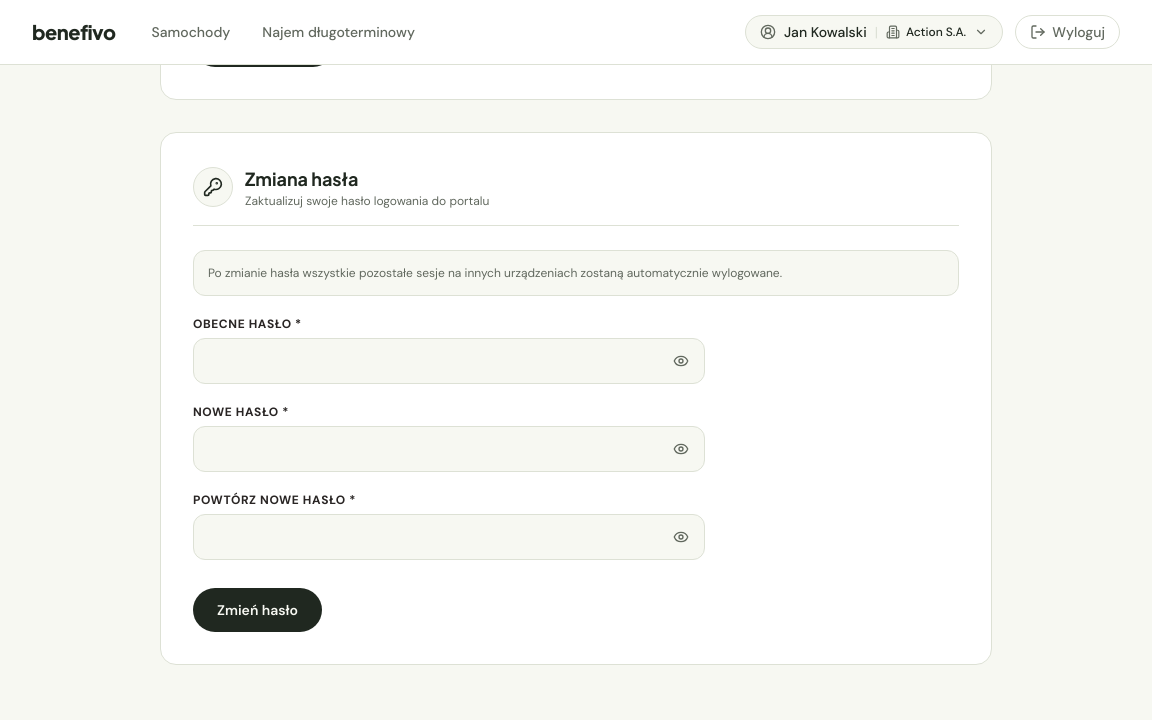
AccountPage Component › successfully changes password and displays logout notification message
(page scrolled)
Check: the heading "Zmiana hasła" is shown, box [245, 166, 358, 190]
Type "OldPassword123!" into the password field labelled "Obecne hasło *". click: (449, 360)
box: [193, 338, 705, 384]
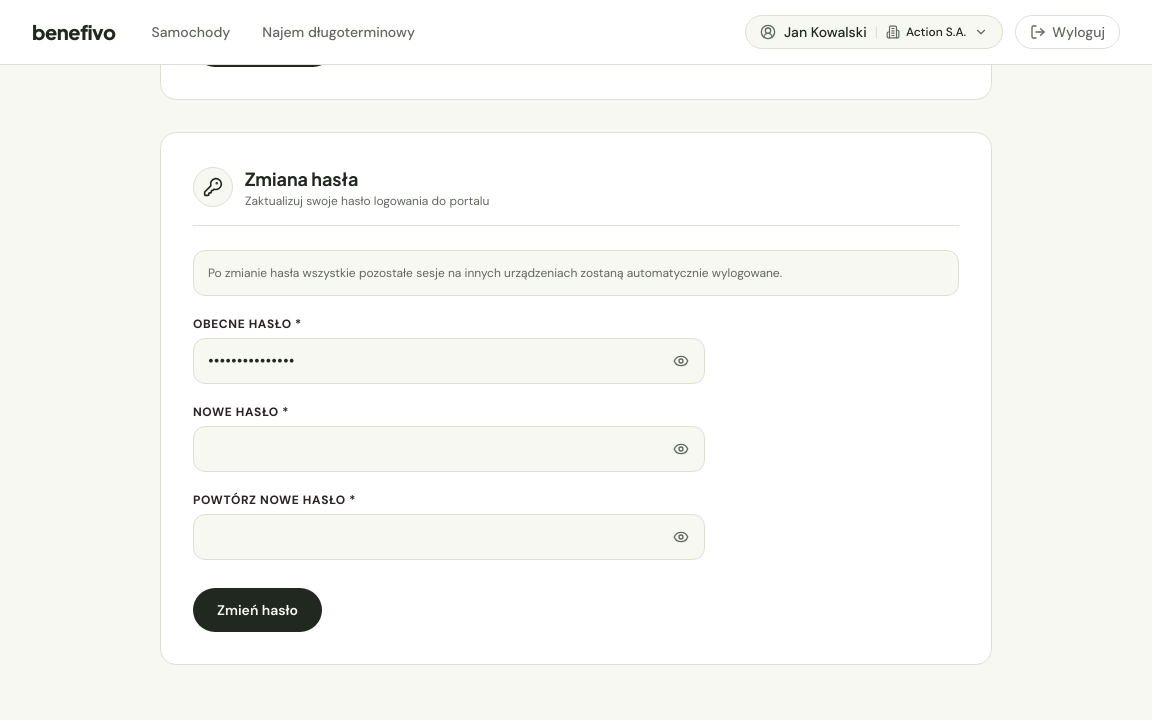
Type "NewSuperPassword123!" into the password field labelled "Nowe hasło *". click: (449, 448)
box: [193, 426, 705, 472]
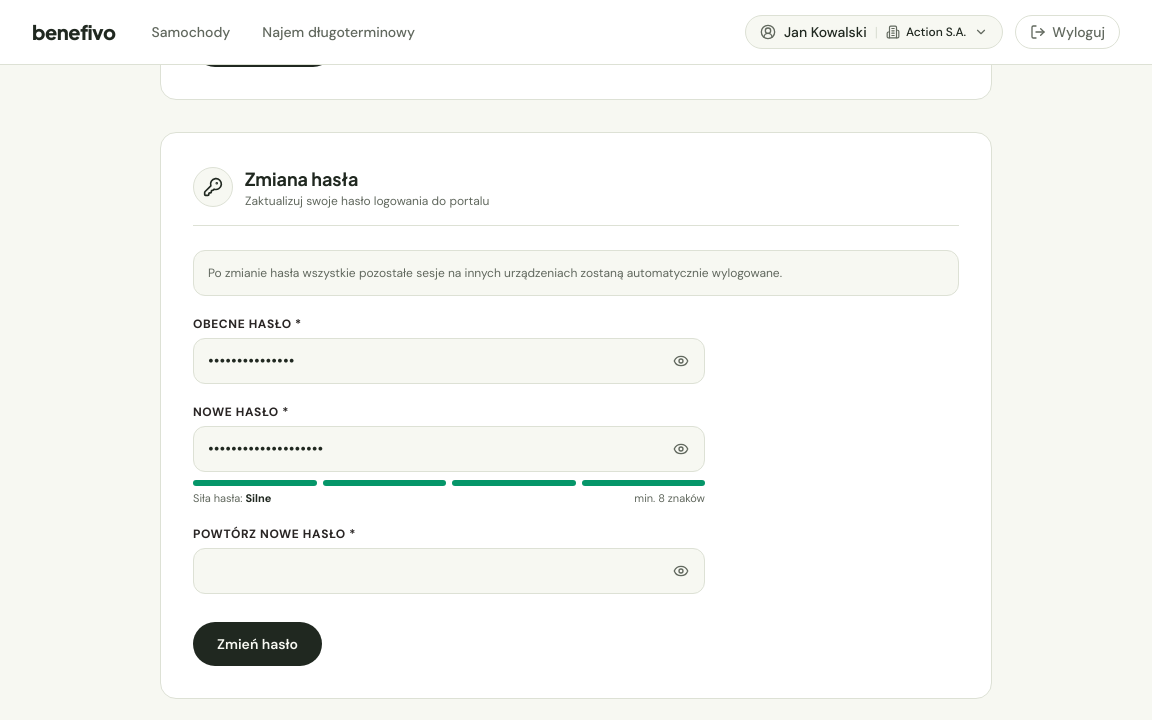
Type "NewSuperPassword123!" into the password field labelled "Powtórz nowe hasło *". click: (449, 571)
box: [193, 548, 705, 594]
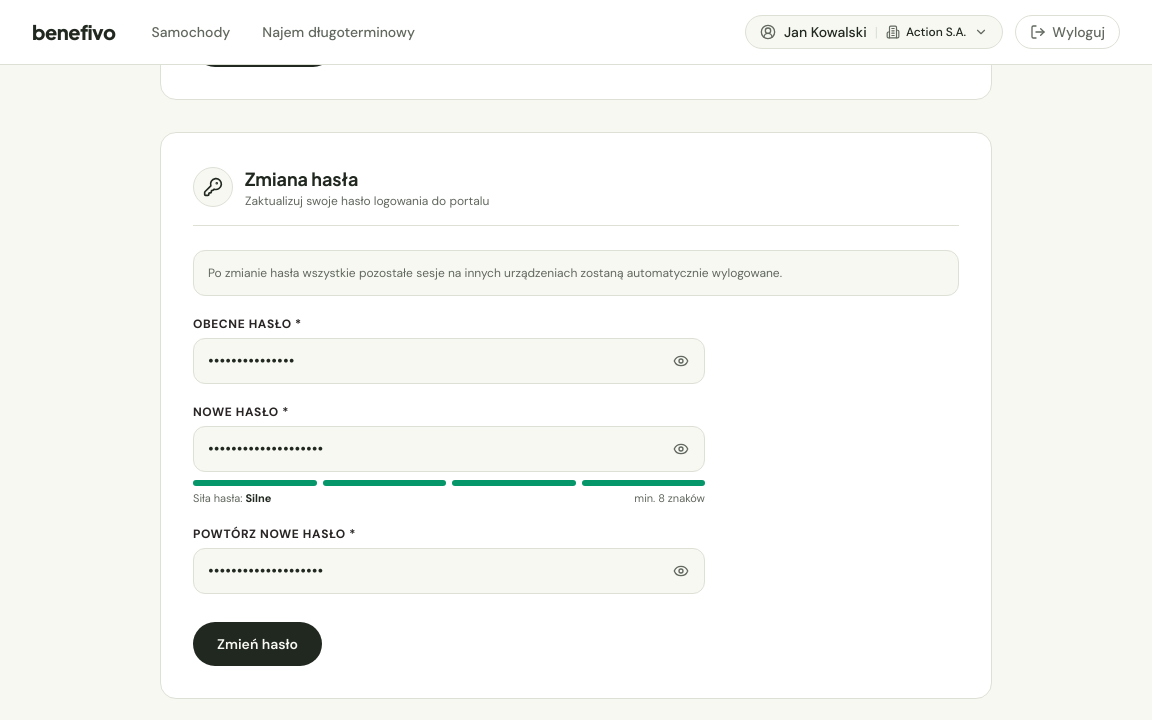
Click the button "Zmień hasło". click: (258, 644)
box: [193, 622, 322, 666]
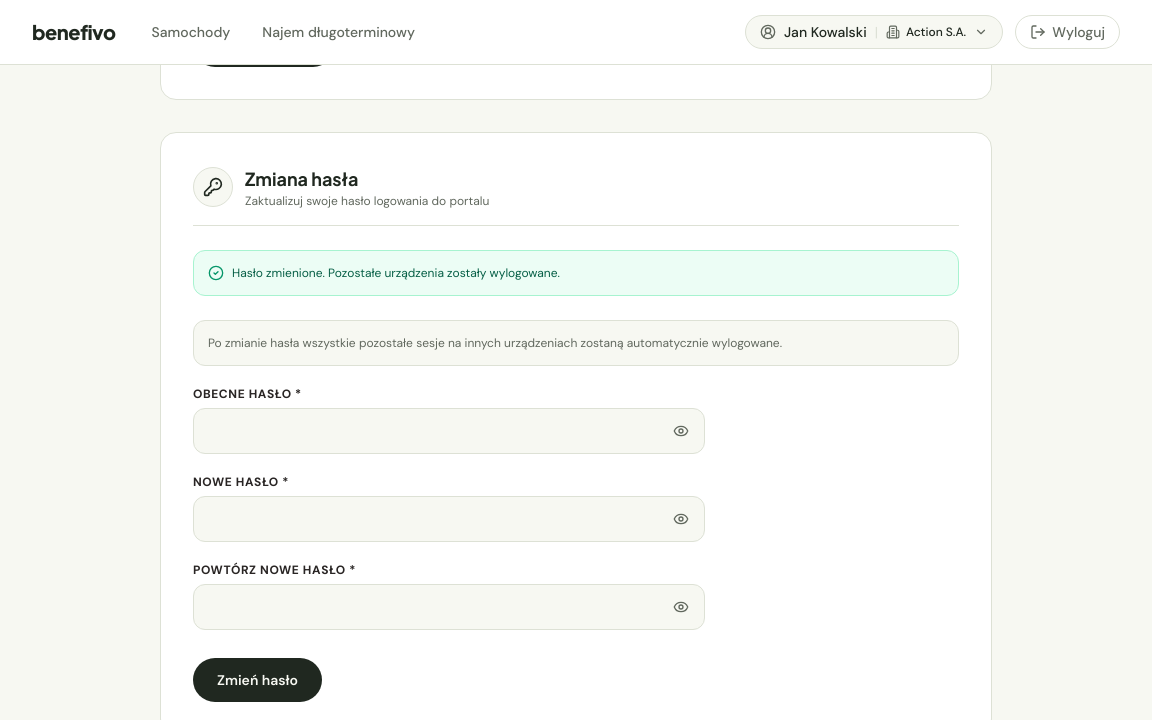
Check: the text "Hasło zmienione. Pozostałe urządzenia zostały wylogowane." is shown, box [232, 264, 560, 280]
